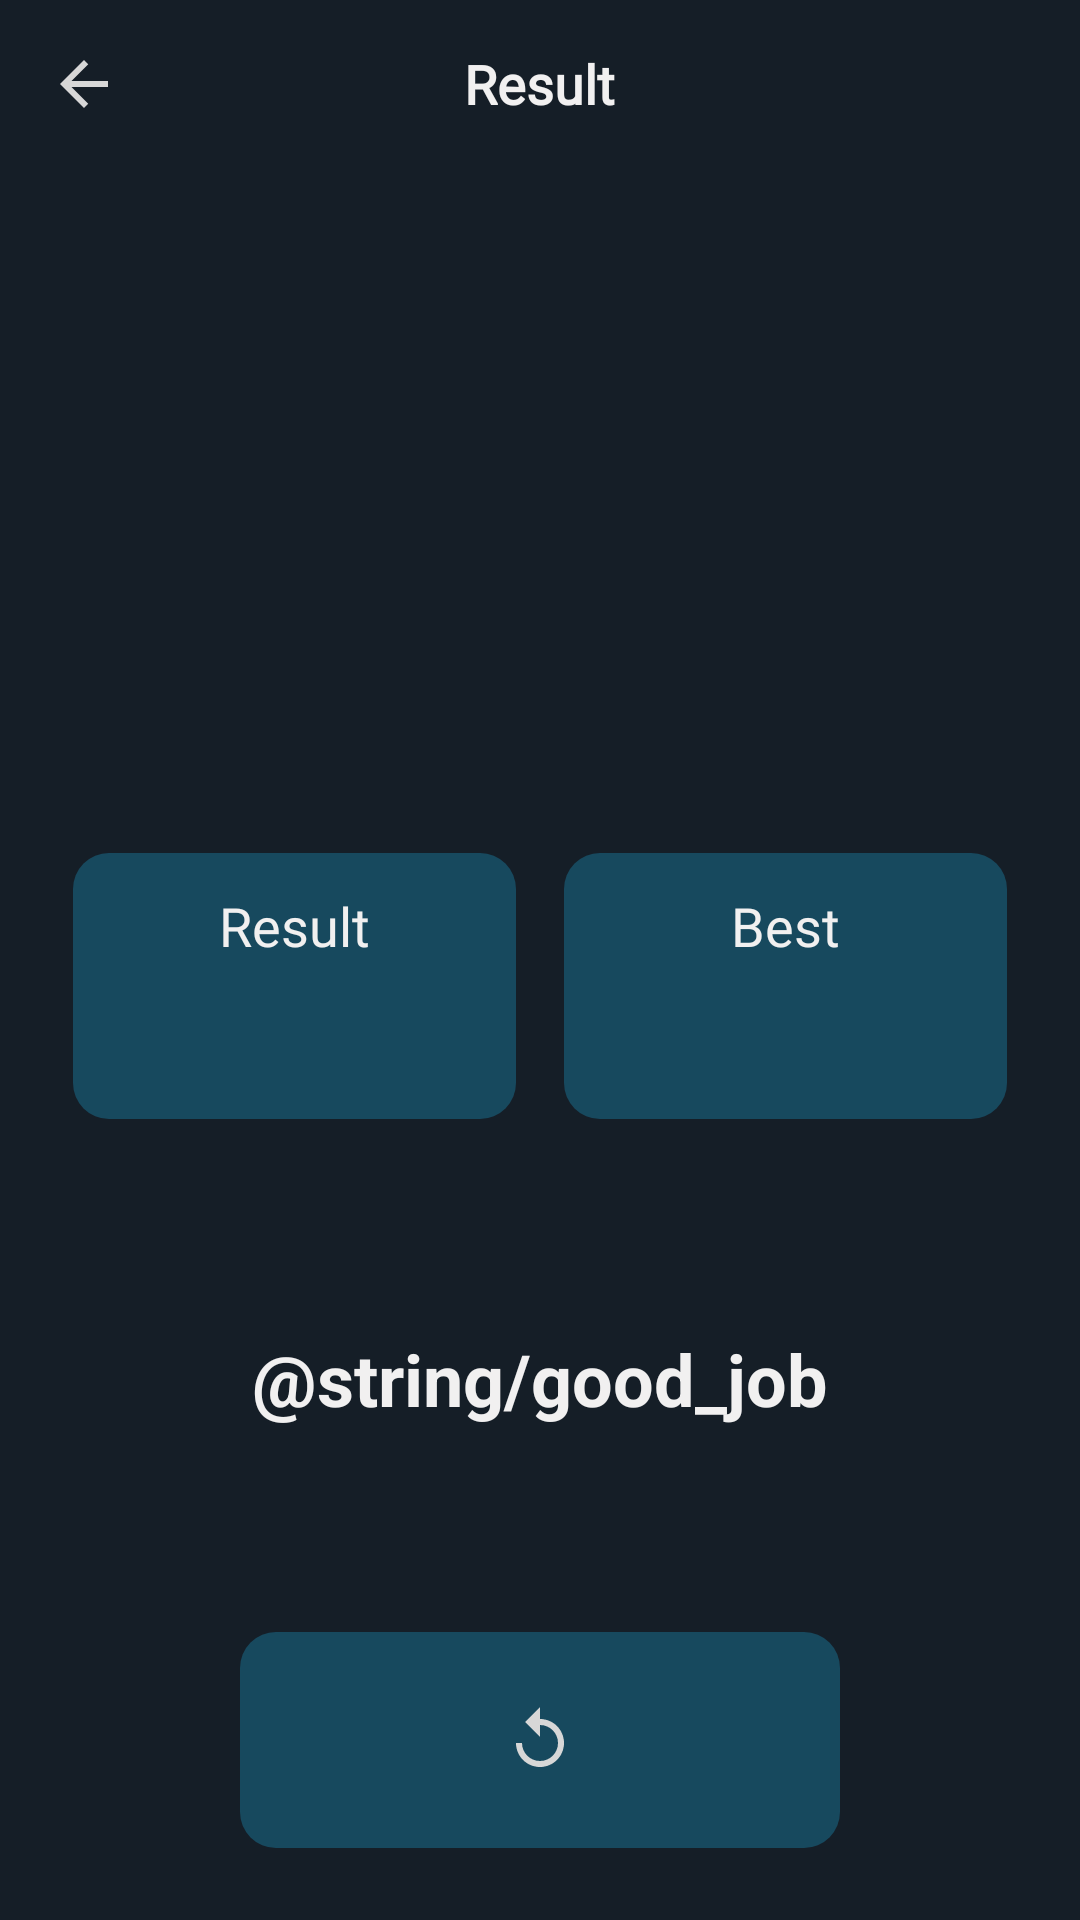

Where to tap for icons on this 1080px x 1920px app screen, as (x,y):
Navigate Up: (84,84)
